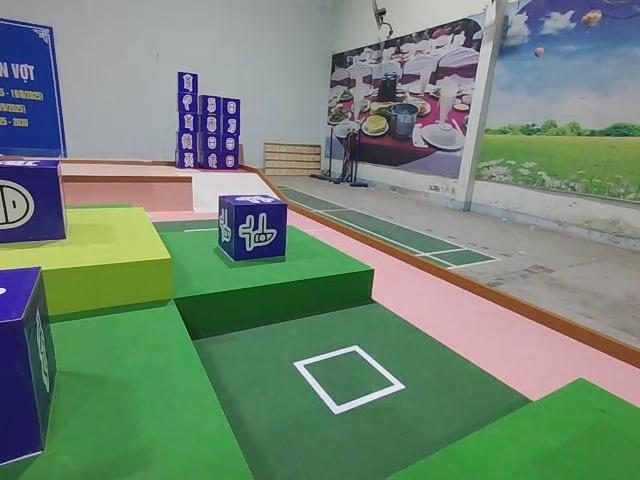R2 Real Blue: (0, 264, 56, 471), (0, 160, 65, 250), (216, 194, 286, 264)
